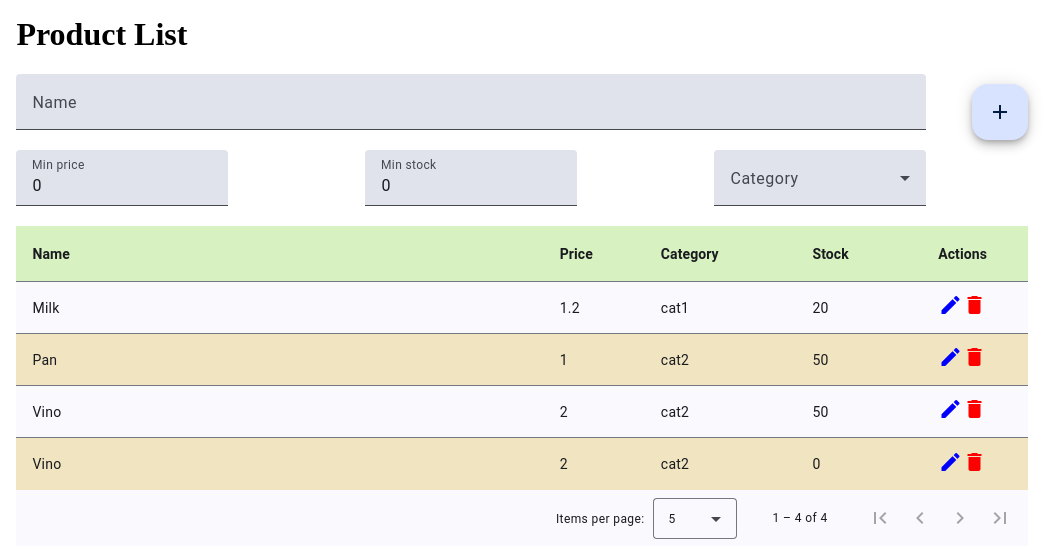
Test: template spec › Goto new product page
Click the button named "Add" at (1000, 112), box [972,84,1028,140]
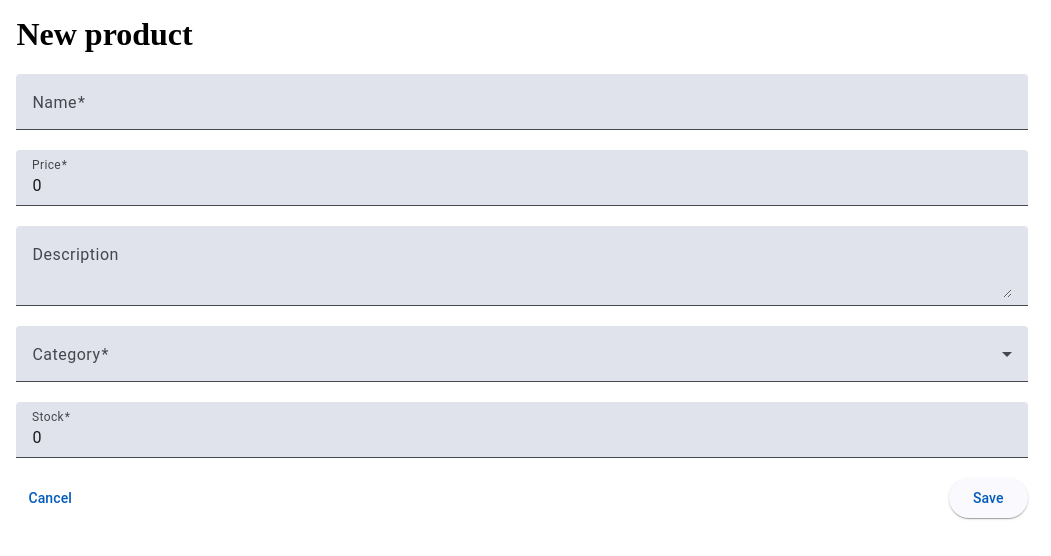
Result: the heading "New product" is shown at [16,16,193,52]
